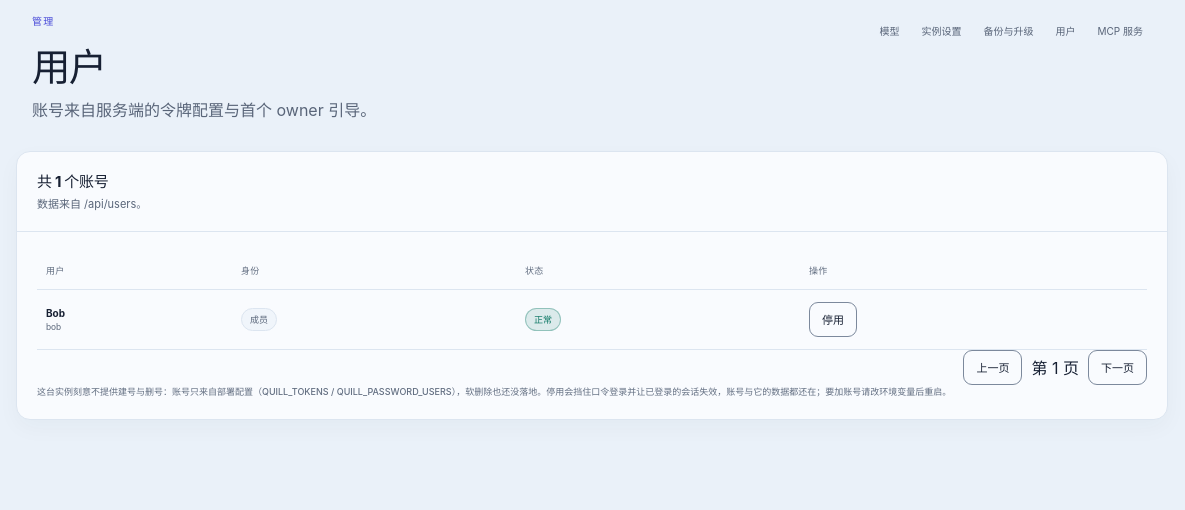
Test: 停用按钮说清它挡得住什么 › 409 自己停用时，说的是「别把自己锁在门外」，不是通用错误
Check: the row with test id "user-row-bob" is shown, box [37,289,1147,349]
Click the button with test id "user-toggle-bob".
click(833, 319)  # box [809,302,857,337]
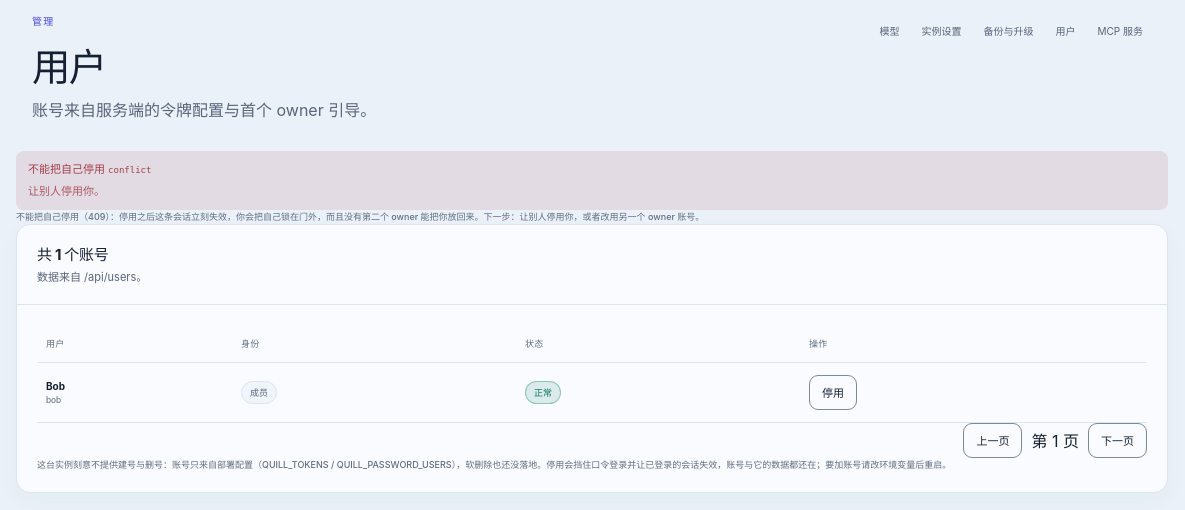
Check: the text with test id "users-failure-help" shows "锁在门外", box [16,211,704,222]
